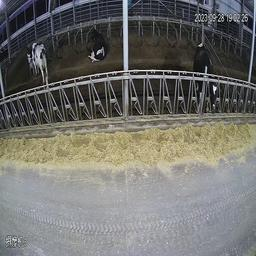cow: (193, 39, 221, 114), (24, 46, 49, 87), (88, 27, 109, 62)
